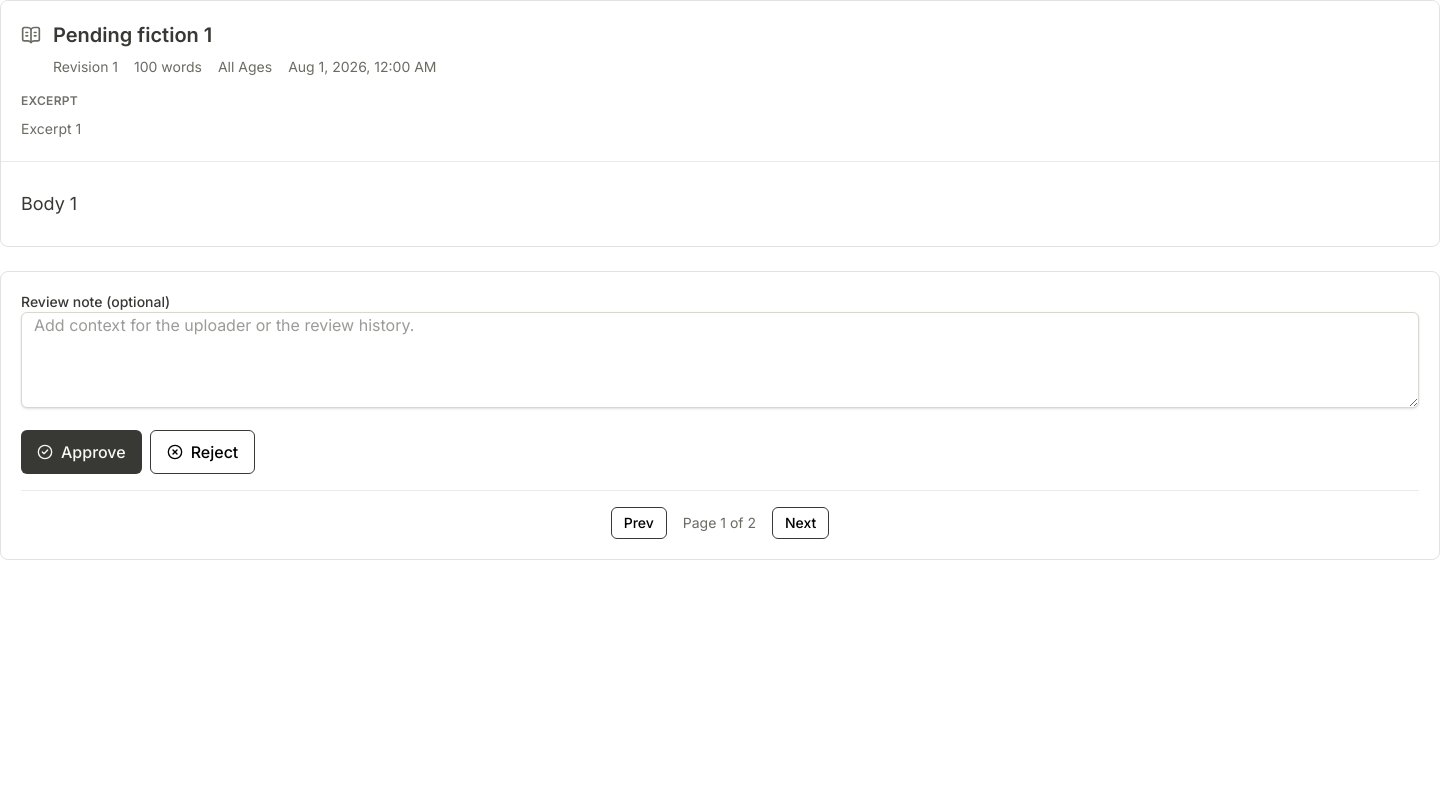
FictionModerationPanel › navigates between pending revisions and clears the draft note
Expected: the heading "Pending fiction 1" is shown, [53, 23, 212, 47]
Expected: the text "Page 1 of 2" is shown, [683, 513, 756, 533]
In the text box labelled "Review note (optional)": (720, 360) [21, 312, 1419, 408], type "half-written note"
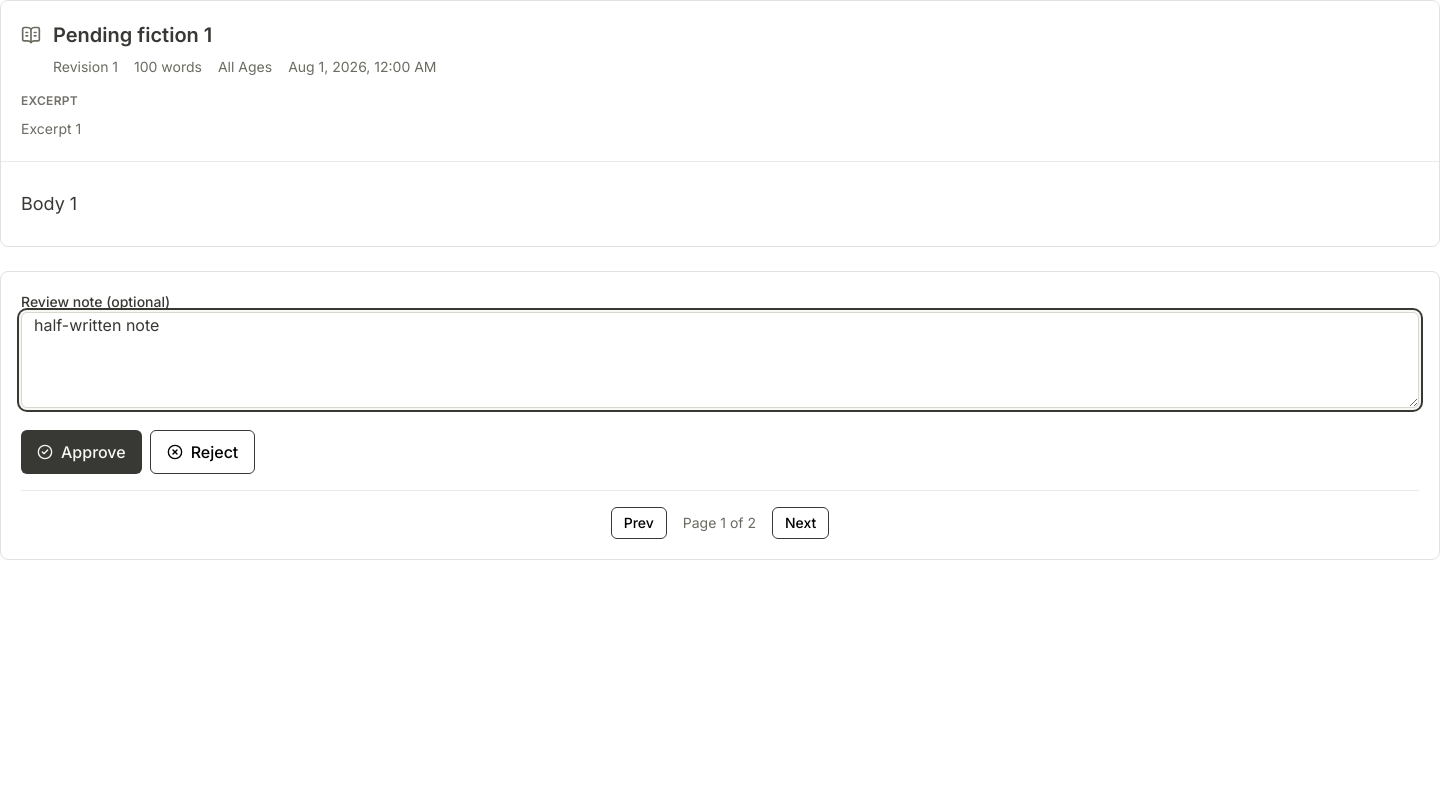
Click the button "Next": (801, 523) [772, 507, 829, 539]
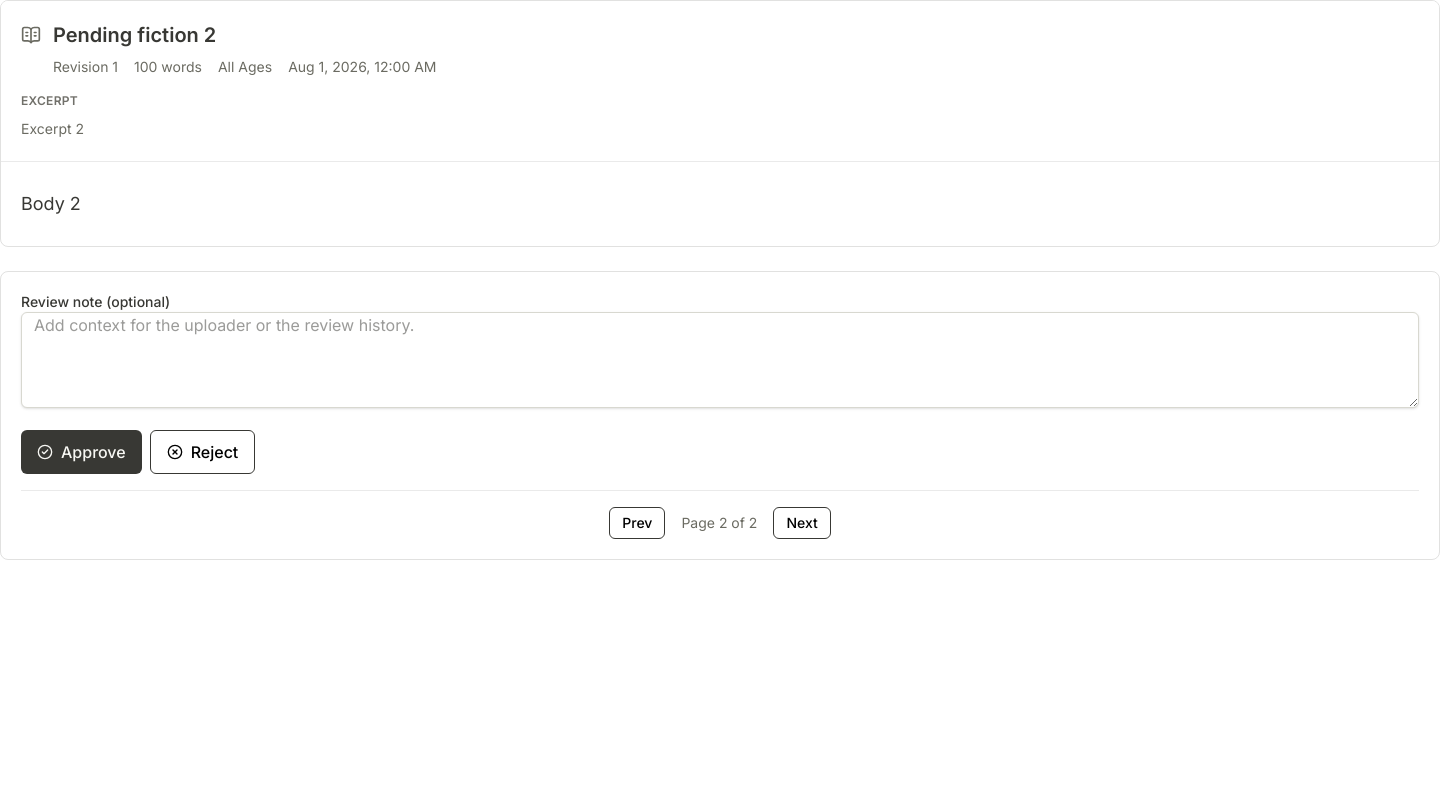
Now the heading "Pending fiction 2" is shown, box [53, 23, 216, 47]
Now the text box labelled "Review note (optional)" is empty, box [21, 312, 1419, 408]
Now the button "Next" is disabled, box [773, 507, 831, 539]
Click the button "Prev": (637, 523) [609, 507, 665, 539]
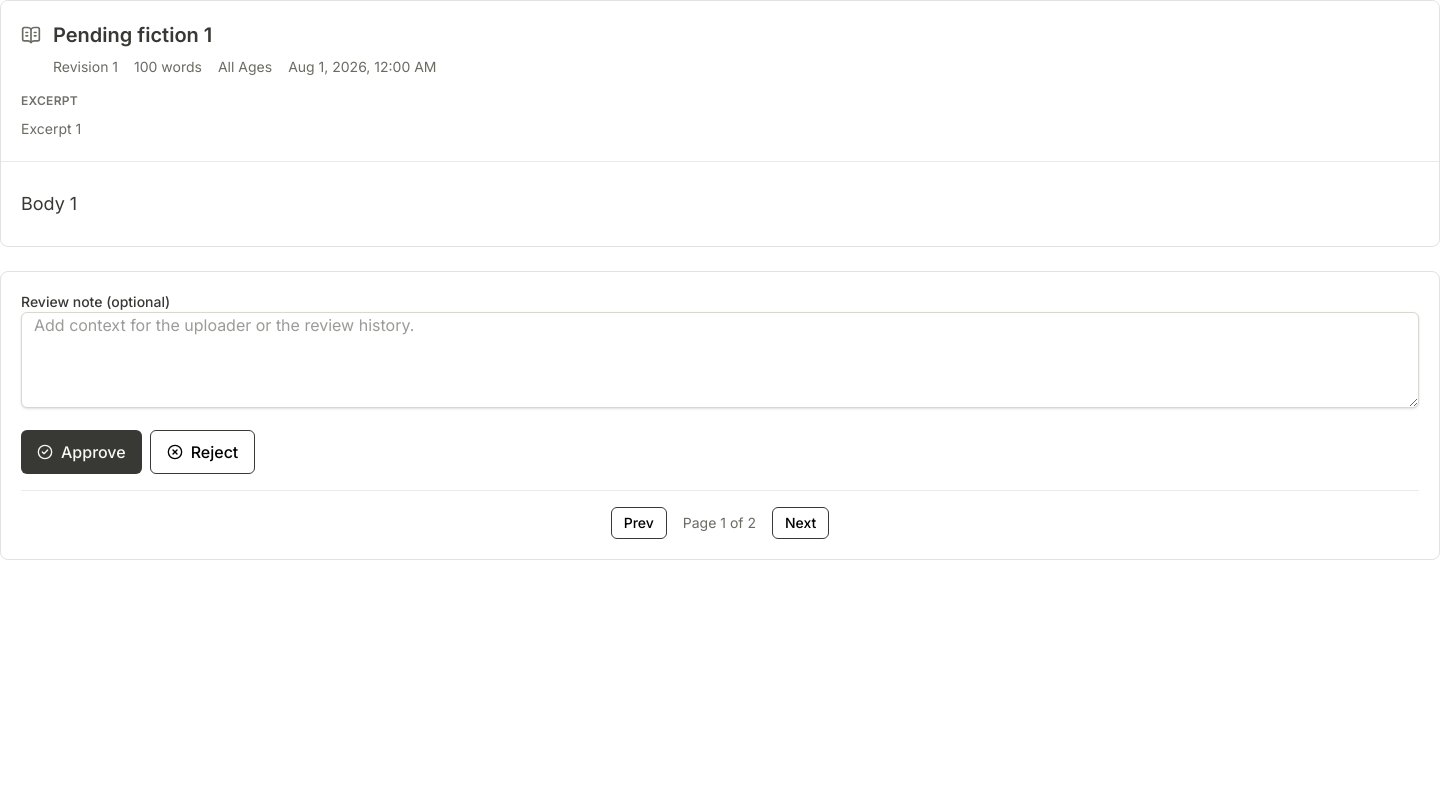
Now the heading "Pending fiction 1" is shown, box [53, 23, 212, 47]
